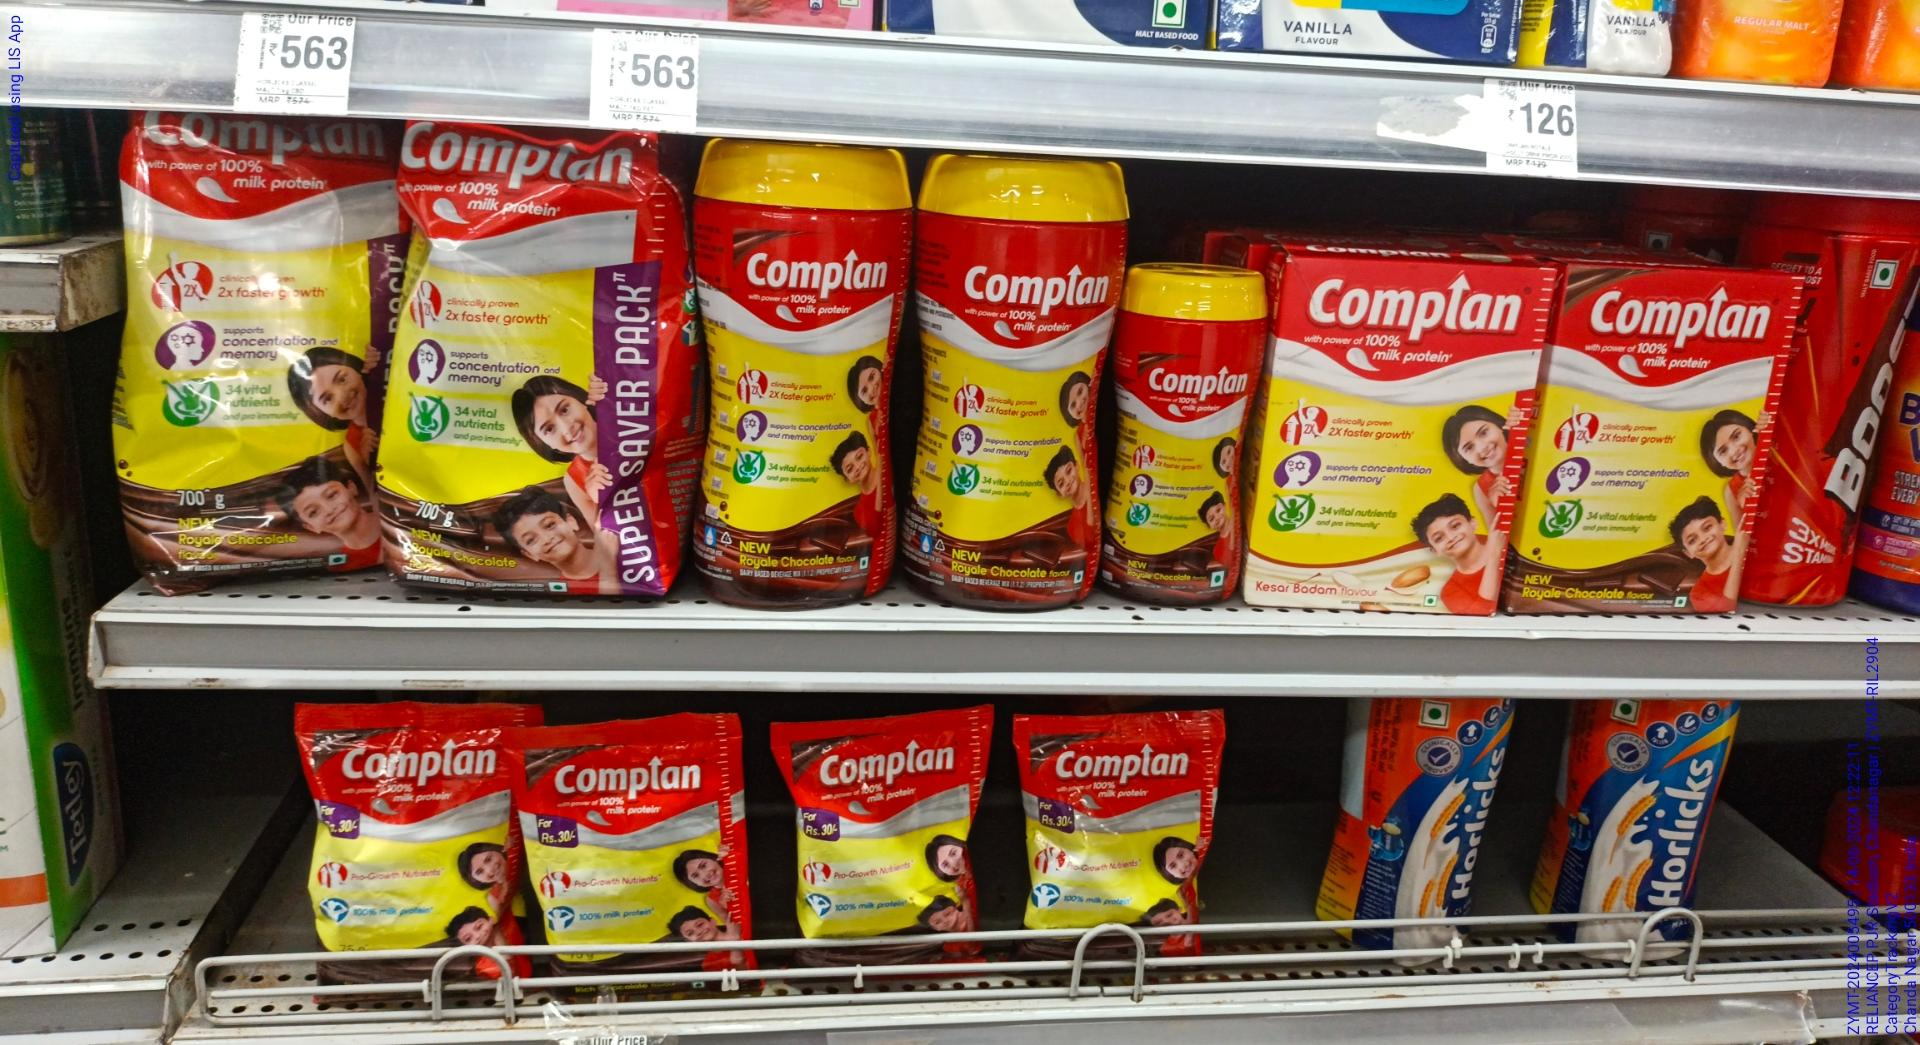COMPLAN_CHOCOLATE_200_GMS_JAR: (1116, 263, 1243, 614)
COMPLAN_CHOCOLATE_500_GMS_JAR: (687, 138, 893, 618), (909, 148, 1096, 618)
COMPLAN_CHOCOLATE_500_GMS_PACK: (1535, 255, 1739, 613)
COMPLAN_KESAR_BADAM_500_GMS_PACK: (1252, 257, 1502, 609)
COMPLAN_RC_POUCH_700_GMS_12: (400, 118, 663, 607), (117, 113, 386, 582)
